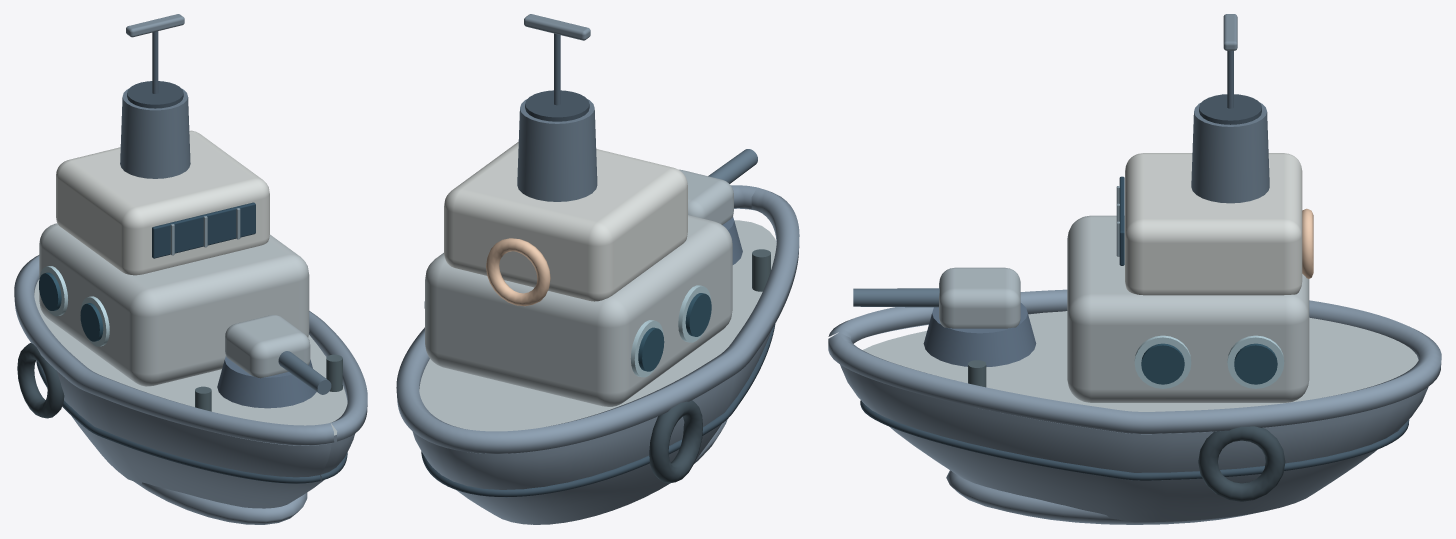
File: PatrolBoat.glb
3 renders of one model, left to right at view 1: azimuth 30°, elevation 25°; view 2: azimuth 150°, elevation 25°; view 3: azimuth 270°, elevation 25°, orthographic. The views are drawn at different scales.
Parts seen in each view (by area): view 1: PatrolBoat, Turret; view 2: PatrolBoat, Turret; view 3: PatrolBoat, Turret.
Part boxes in pixels (<box>): PatrolBoat: <box>14,14,367,524</box>; Turret: <box>217,315,331,408</box>; PatrolBoat: <box>396,14,799,524</box>; Turret: <box>679,149,757,264</box>; PatrolBoat: <box>828,14,1441,524</box>; Turret: <box>853,267,1036,366</box>.
Bounding box in the file's own units: 1.11 × 1.87 × 2.18.
